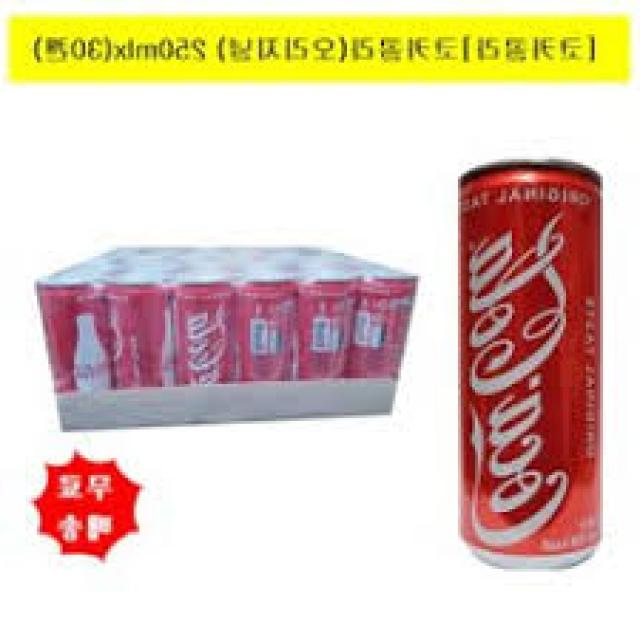Coca-Cola: (443, 148, 616, 572)
